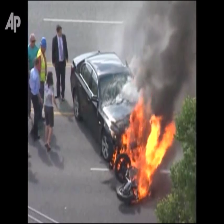fire_h: (120, 82, 177, 200)
fire_l: (110, 146, 117, 170), (117, 157, 130, 169)
